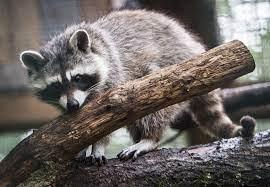raccoon: (7, 0, 265, 175)
